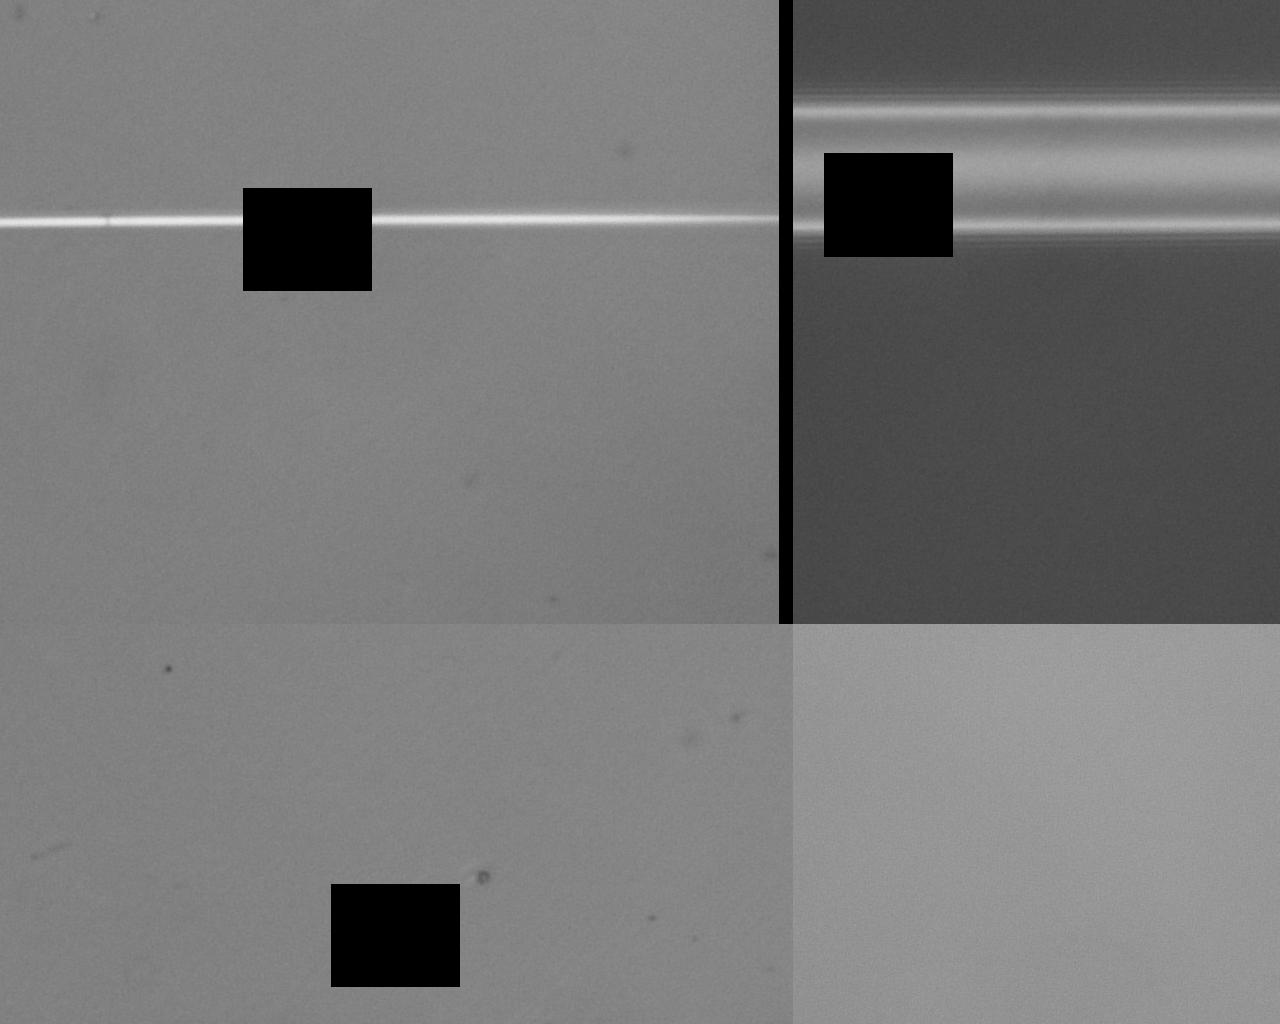fiber: (20, 0, 738, 624), (857, 0, 1139, 624), (365, 624, 585, 1024)
